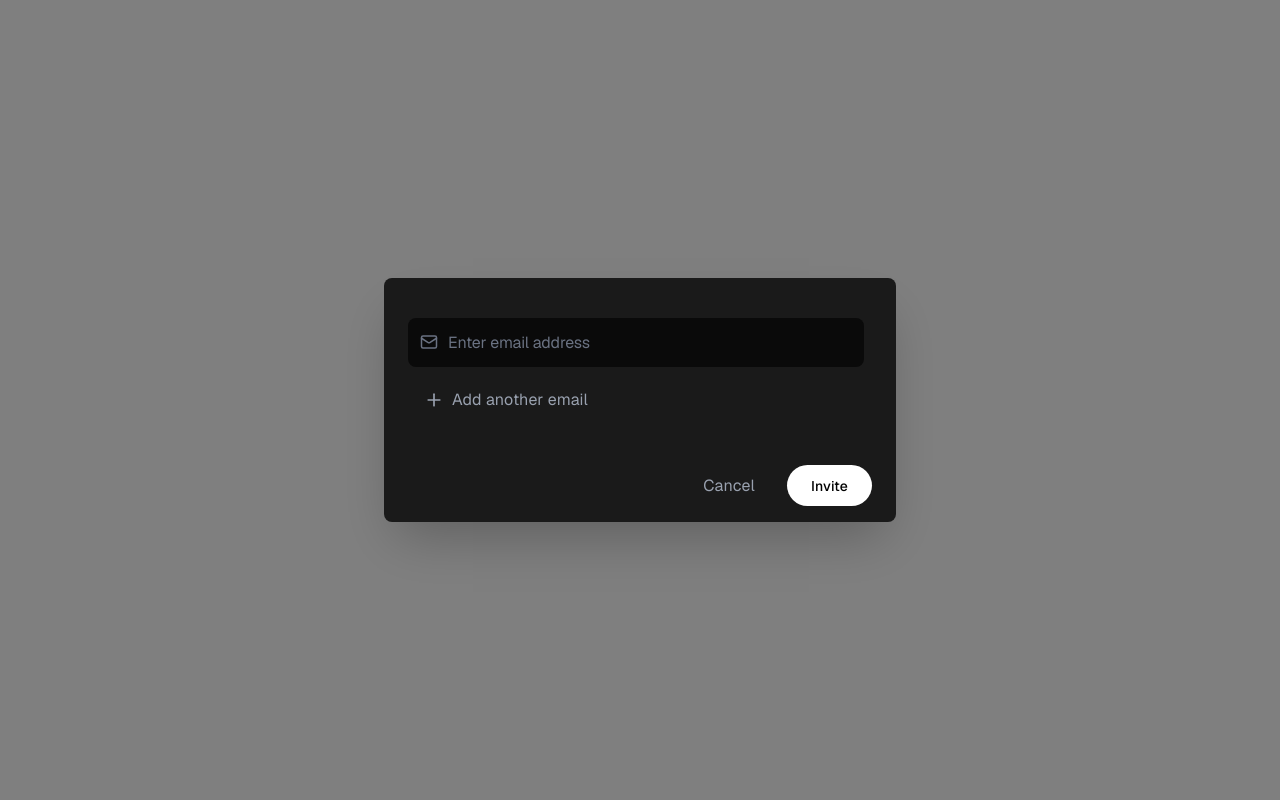
Scenario: InviteMembersDialog Component › should remove an email input when delete button is clicked
The width and height of the screenshot is (1280, 800).
// Add an additional email input
Click the button "Add another email".
click(520, 400)  # box left=408, top=375, right=872, bottom=425
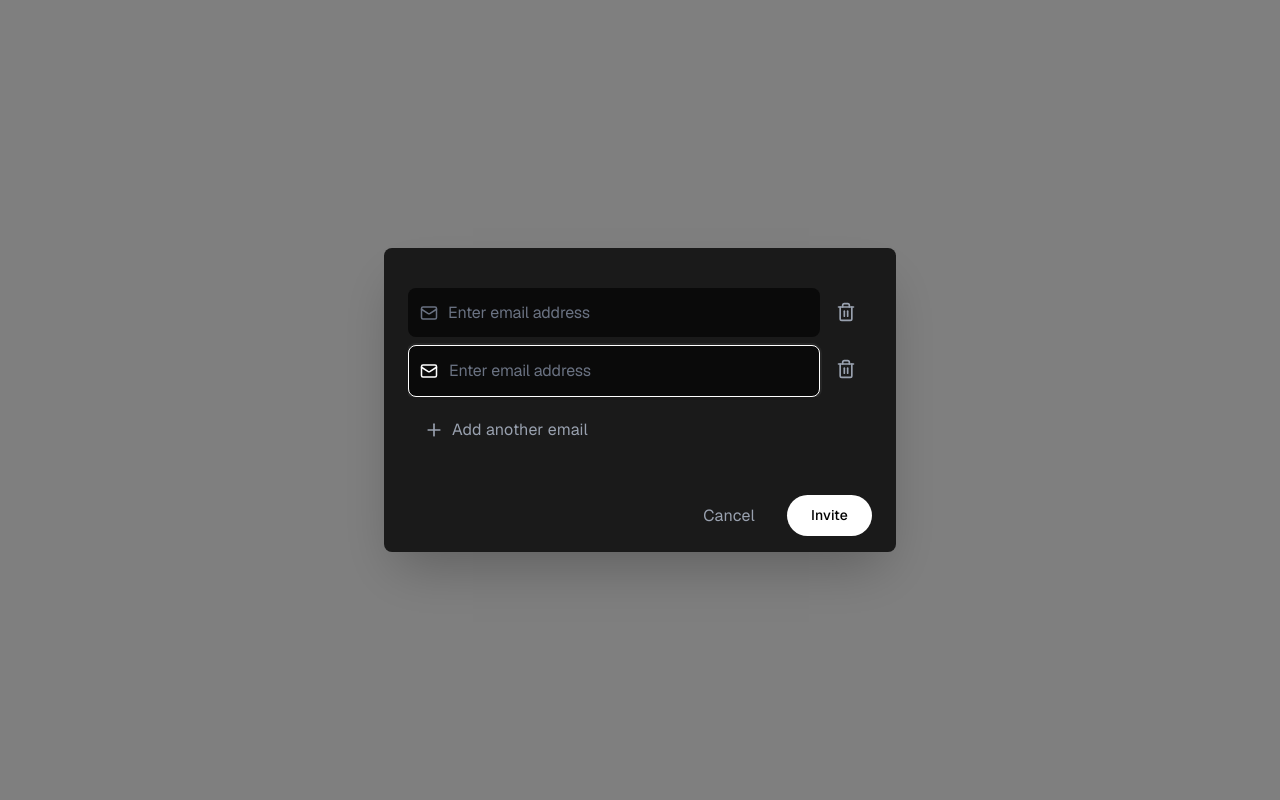
Now the number of fields with placeholder "Enter email address" is 2, box left=408, top=288, right=820, bottom=337; left=408, top=345, right=820, bottom=397
// Find and click the delete button for the second email
Click the 1st button.
click(846, 312)  # box left=828, top=294, right=864, bottom=330
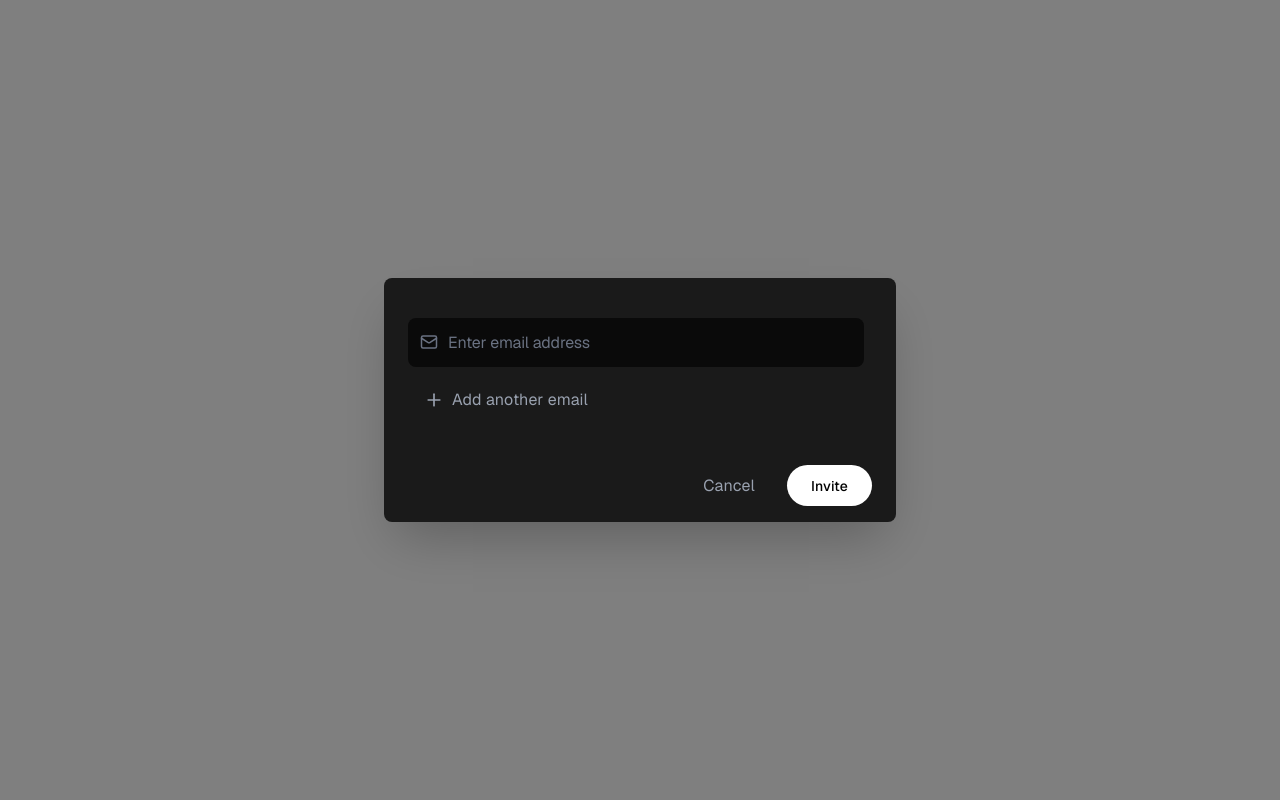
Now the number of fields with placeholder "Enter email address" is 1, box left=408, top=318, right=864, bottom=367
